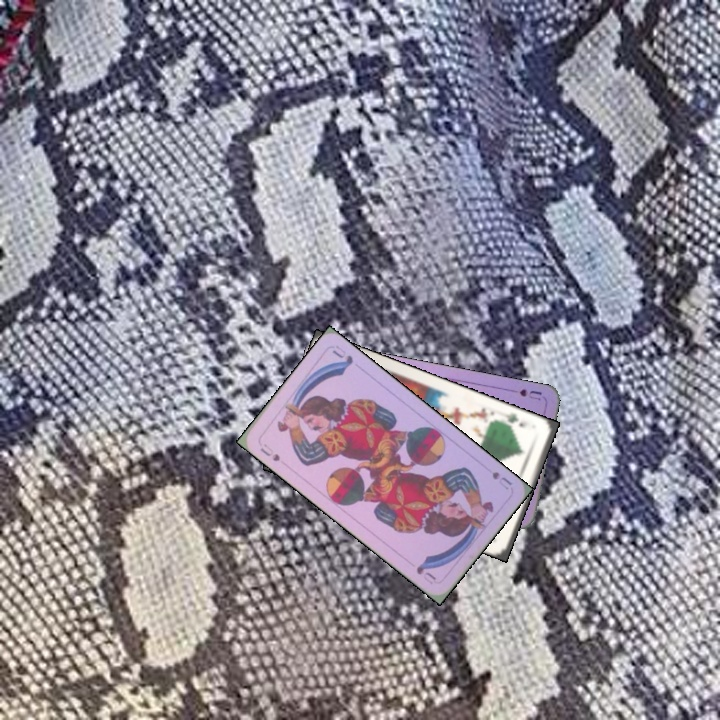GK: (498, 409, 531, 430)
SU: (504, 385, 544, 403), (488, 467, 515, 492), (256, 439, 282, 464)
